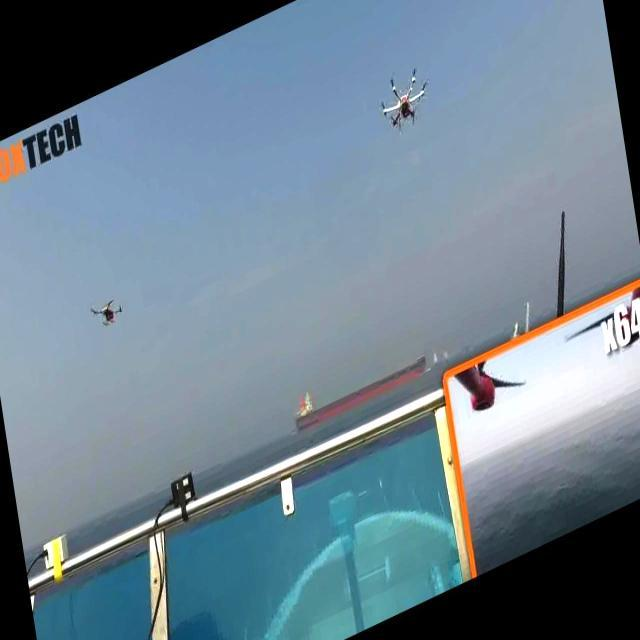drone: (369, 53, 439, 148), (83, 281, 131, 341)
